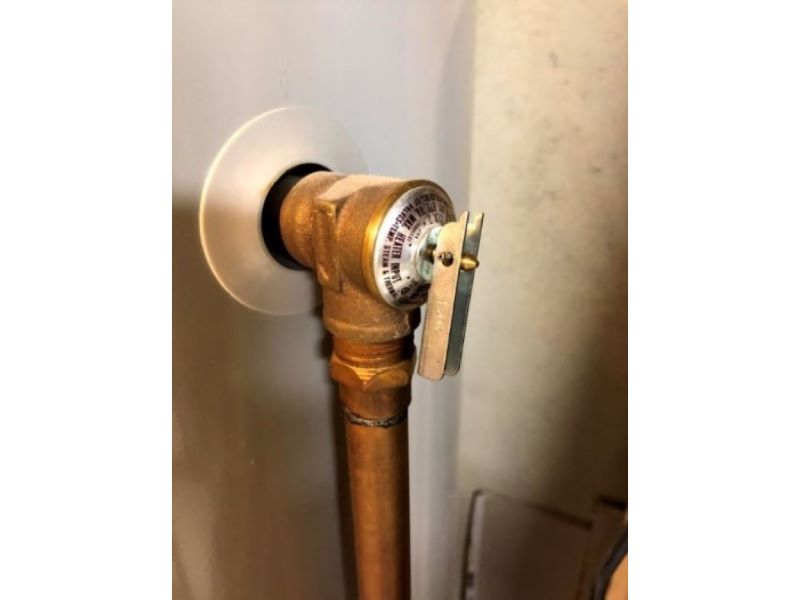Valve: (261, 159, 485, 429)
